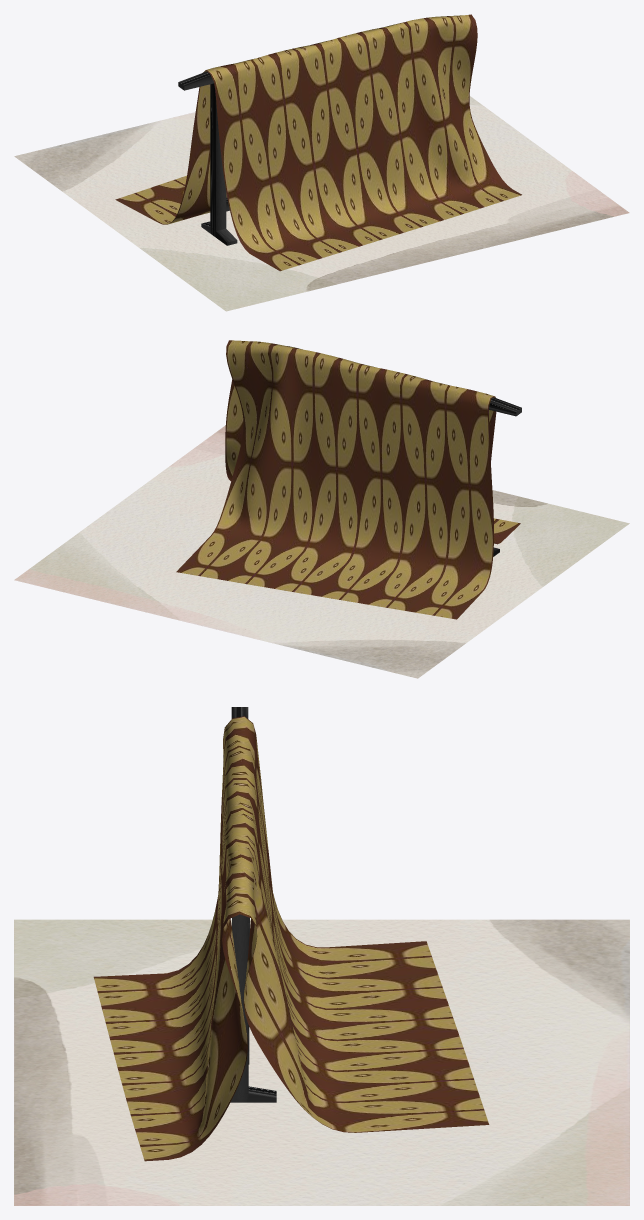
The model's file is kawung.glb.
3 views of the same model, one above another, from view 1: azimuth 30°, elevation 25°; view 2: azimuth 150°, elevation 25°; view 3: azimuth 270°, elevation 25° (orthographic). The views are drawn at different scales.
Visible parts, largest first — view 1: Object_3, Object_2, Object_4; view 2: Object_3, Object_2; view 3: Object_2, Object_3, Object_4.
Boxes of the visible parts, box(x1,y1,x2,y2) form: Object_3: box(115, 14, 521, 271); Object_2: box(14, 96, 629, 311); Object_4: box(178, 71, 237, 245); Object_3: box(176, 340, 520, 619); Object_2: box(14, 425, 629, 678); Object_2: box(14, 919, 629, 1205); Object_3: box(93, 716, 489, 1161); Object_4: box(230, 707, 276, 1102).
Size of the model in its own units: 45.78 by 18.38 by 41.63.
Materials: 3 (3 with a texture image).
